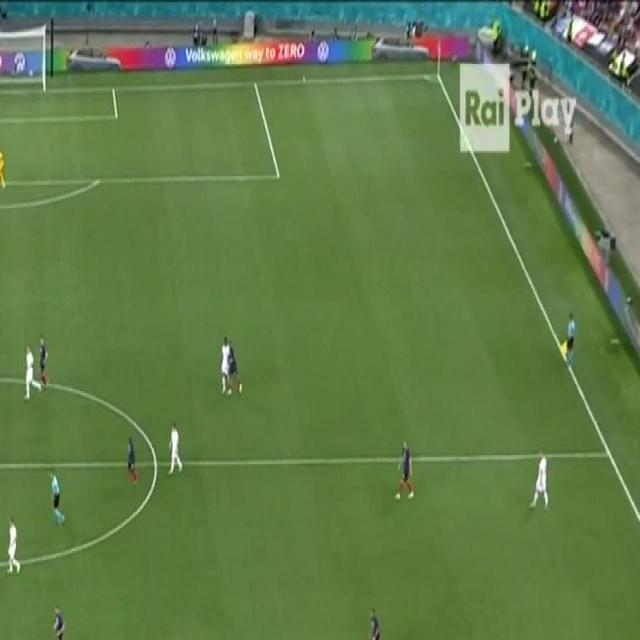Keeper: (49, 469, 66, 527), (561, 312, 575, 368)
another-player: (394, 440, 414, 500), (227, 345, 243, 397), (52, 604, 70, 640), (39, 334, 50, 392), (127, 435, 139, 487), (369, 606, 384, 640)
player-white: (529, 451, 549, 511), (23, 344, 42, 402), (6, 517, 22, 576), (168, 419, 184, 476), (219, 336, 231, 394)
referee: (0, 146, 6, 190)
